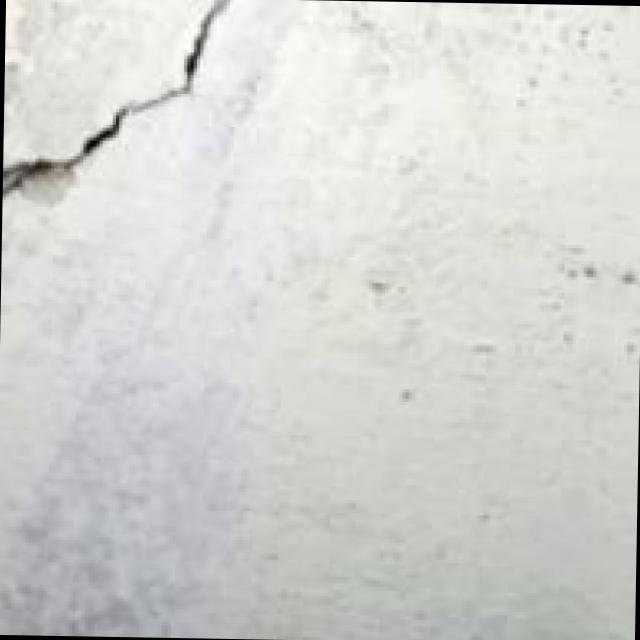crack: (5, 0, 268, 239)
